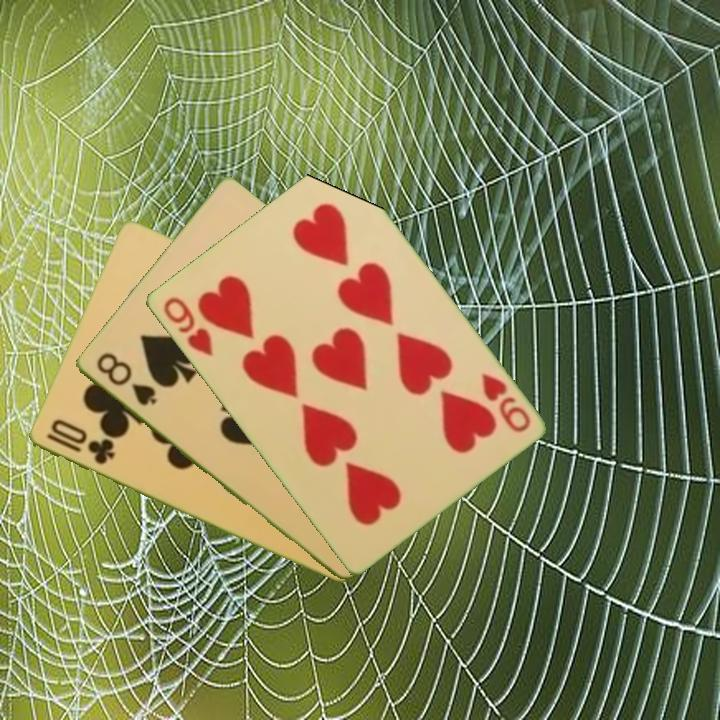10c: (42, 415, 118, 468)
8s: (92, 348, 159, 409)
9h: (477, 369, 533, 436), (159, 293, 215, 359)
